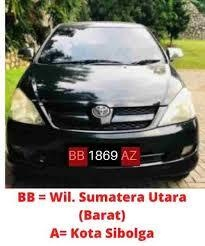plate: (68, 144, 139, 168)
